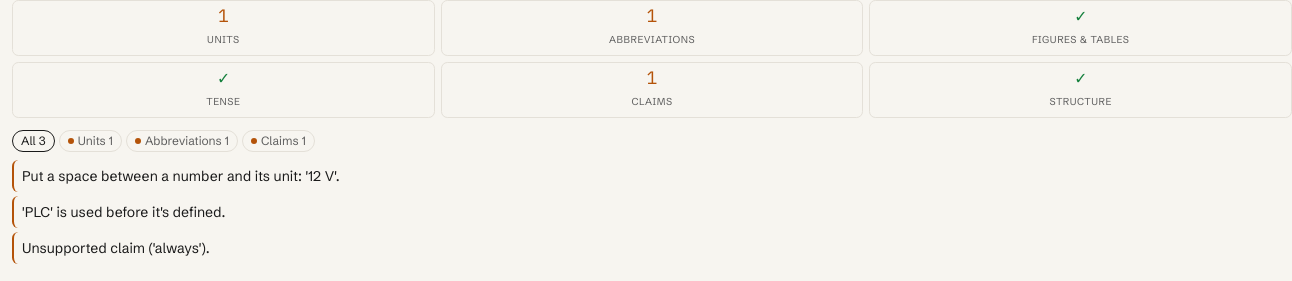
Test case: DoctorPanel › shows a count per check and filters the list by check
The image size is (1292, 281).
Expected: the text "Figures & tables" is shown, x1=1032 y1=33 x2=1129 y2=46
Expected: the text "✓" is shown 3 times, x1=1075 y1=4 x2=1086 y2=27; x1=218 y1=66 x2=229 y2=89; x1=1075 y1=66 x2=1086 y2=89
Click the button "Units 1": [90, 141] box x1=59 y1=130 x2=122 y2=152
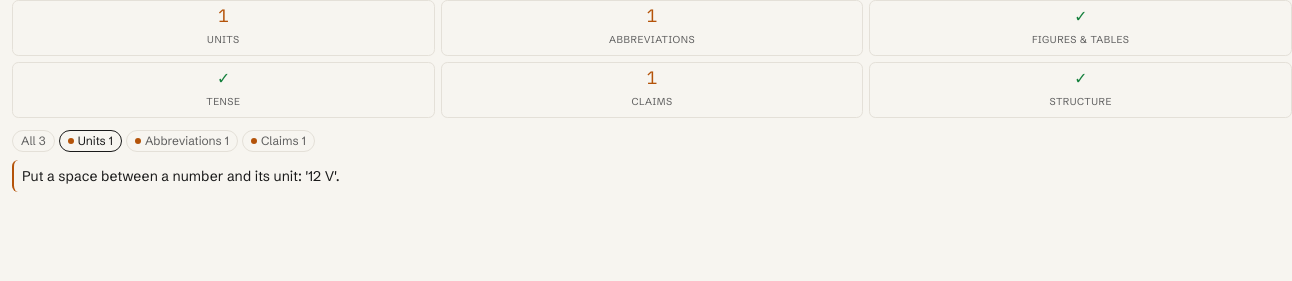
Expected: the text "Put a space between a number and its unit: '12 V'." is shown, x1=22 y1=167 x2=340 y2=185
Expected: the button "Unsupported claim" is gone
